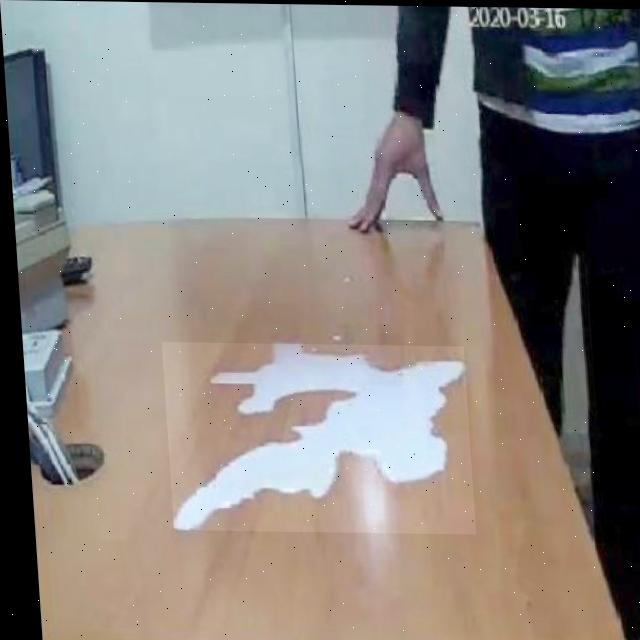spillage: (167, 343, 460, 530)
